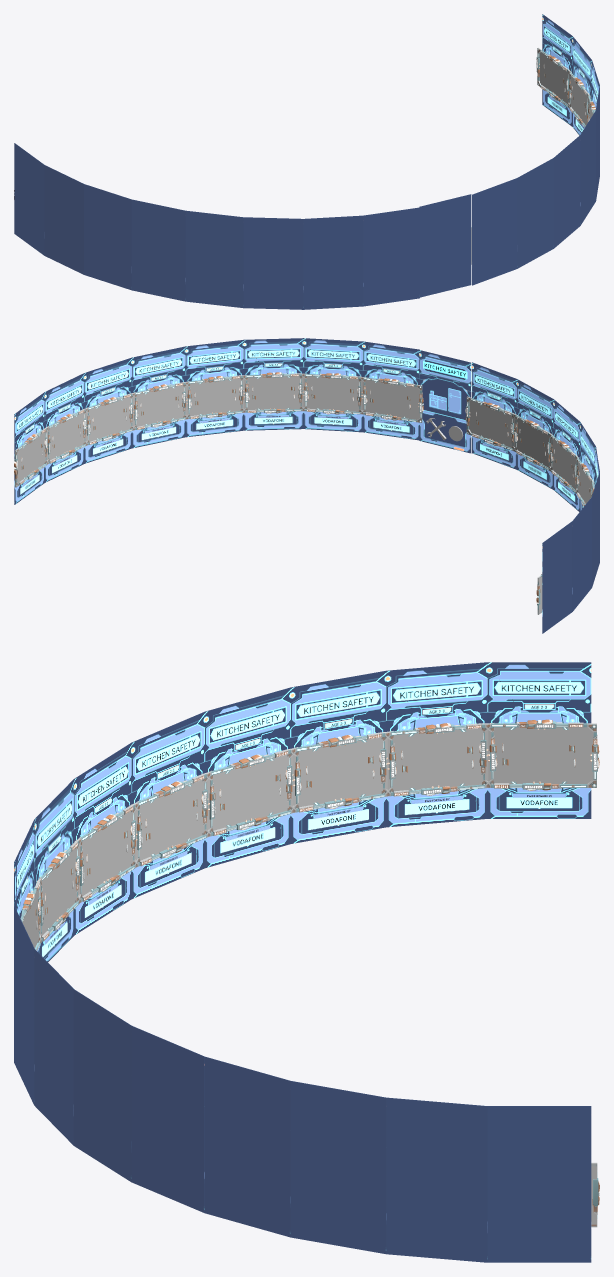
Rendered from Menu Row 1.fbx.
3 views of the same model, one above another, from view 1: azimuth 30°, elevation 25°; view 2: azimuth 150°, elevation 25°; view 3: azimuth 270°, elevation 25° (orthographic). The views are drawn at different scales.
Parts seen in each view (by area): view 1: BackgroundPlane012, BackgroundPlane011, BackgroundPlane013, BackgroundPlane010, BackgroundPlane014, CentrePlane, BackgroundPlane015, BackgroundPlane002, BackgroundPlane016, BackgroundPlane003, BackgroundPlane017, BackgroundPlane004 (+6 smaller); view 2: CentrePlane, BackgroundPlane017, BackgroundPlane004, BackgroundPlane003, BackgroundPlane005, BackgroundPlane002, BackgroundPlane006, BackgroundPlane007, BackgroundPlane010, BackgroundPlane016, BackgroundPlane008, 1920x108004 (+26 smaller); view 3: BackgroundPlane009, BackgroundPlane008, BackgroundPlane007, BackgroundPlane006, BackgroundPlane005, BackgroundPlane004, BackgroundPlane017, BackgroundPlane016, BackgroundPlane015, BackgroundPlane014, BackgroundPlane003, BackgroundPlane013 (+25 smaller).
Part boxes in pixels (x1,y1,x2,y2): BackgroundPlane012: (243, 217, 303, 309); BackgroundPlane011: (303, 215, 363, 309); BackgroundPlane013: (185, 210, 243, 308); BackgroundPlane010: (363, 207, 419, 306); BackgroundPlane014: (131, 199, 185, 301); CentrePlane: (419, 194, 471, 297); BackgroundPlane015: (84, 184, 131, 290); BackgroundPlane002: (472, 178, 517, 285); BackgroundPlane016: (44, 165, 83, 274); BackgroundPlane003: (517, 158, 553, 268); BackgroundPlane017: (14, 143, 44, 255); BackgroundPlane004: (554, 135, 580, 248); CentrePlane: (419, 350, 471, 453); BackgroundPlane017: (542, 521, 572, 633); BackgroundPlane004: (243, 338, 303, 430); BackgroundPlane003: (303, 338, 363, 432); BackgroundPlane005: (185, 340, 243, 437); BackgroundPlane002: (363, 341, 419, 440); BackgroundPlane006: (132, 346, 185, 448); BackgroundPlane007: (84, 357, 131, 463); BackgroundPlane010: (472, 362, 516, 469); BackgroundPlane016: (572, 497, 591, 611); BackgroundPlane008: (44, 373, 84, 482); 1920x108004: (244, 377, 303, 408); BackgroundPlane009: (487, 1106, 591, 1262); BackgroundPlane008: (386, 1097, 487, 1262); BackgroundPlane007: (290, 1081, 386, 1253); BackgroundPlane006: (204, 1056, 290, 1237); BackgroundPlane005: (131, 1025, 204, 1212); BackgroundPlane004: (73, 989, 131, 1181); BackgroundPlane017: (487, 662, 591, 818); BackgroundPlane016: (386, 662, 487, 827); BackgroundPlane015: (291, 671, 386, 843); BackgroundPlane014: (205, 687, 290, 868); BackgroundPlane003: (34, 949, 73, 1145); BackgroundPlane013: (131, 712, 204, 898).
Size of the model in its own units: 2014 by 331 by 1123.
